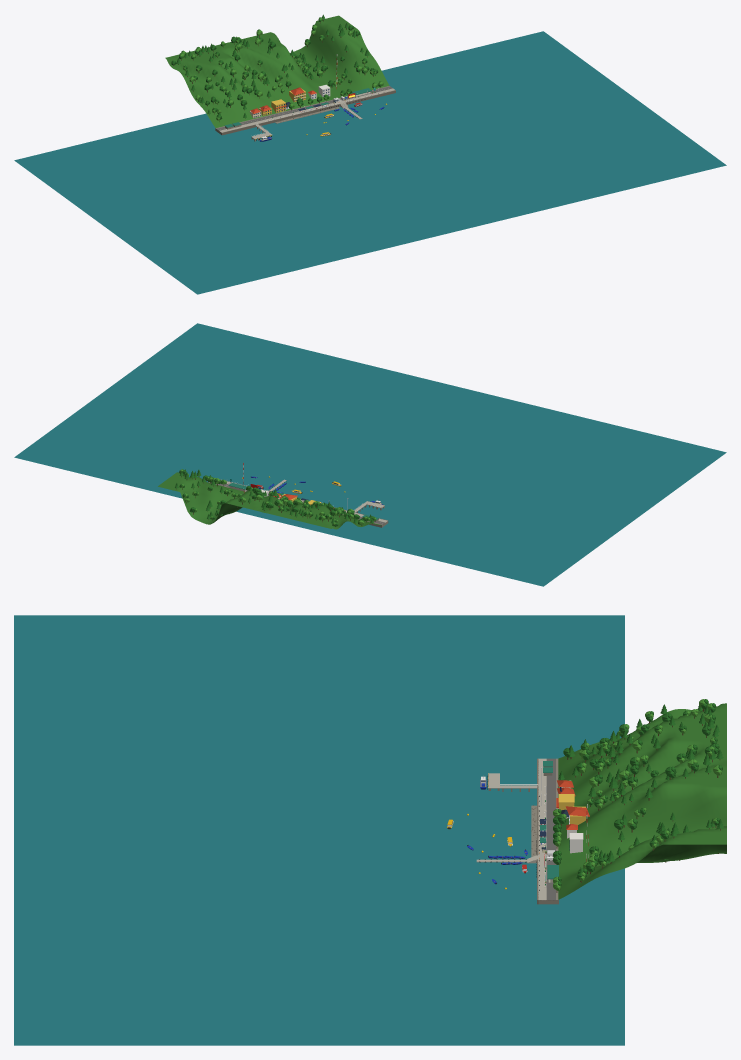
Rendered from cang_van_gia.glb.
3 views of the same model, one above another, from view 1: azimuth 30°, elevation 25°; view 2: azimuth 150°, elevation 25°; view 3: azimuth 270°, elevation 25° (orthographic). The views are drawn at different scales.
Parts seen in each view (by area): view 1: Mat_bien, Doi_sau_ben, Cay_coi, Mat_ben; view 2: Mat_bien, Doi_sau_ben, Cay_coi; view 3: Mat_bien, Doi_sau_ben, Cay_coi, Mat_ben, Duong_ven_bo.
Boxes of the visible parts, left/top/right/bottom form: Mat_bien: left=14, top=31, right=726, bottom=294; Doi_sau_ben: left=165, top=15, right=389, bottom=127; Cay_coi: left=171, top=14, right=383, bottom=121; Mat_ben: left=219, top=88, right=394, bottom=132; Mat_bien: left=14, top=323, right=726, bottom=586; Doi_sau_ben: left=158, top=472, right=381, bottom=529; Cay_coi: left=175, top=469, right=376, bottom=526; Mat_bien: left=14, top=615, right=624, bottom=1045; Doi_sau_ben: left=558, top=703, right=726, bottom=899; Cay_coi: left=553, top=699, right=724, bottom=892; Mat_ben: left=538, top=758, right=546, bottom=900; Duong_ven_bo: left=546, top=758, right=555, bottom=900.
Size of the model in its own units: 700 by 57.76 by 490.
